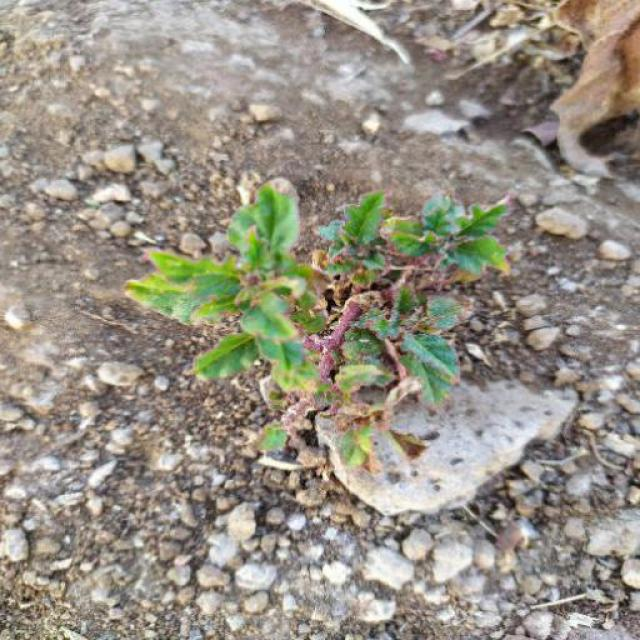weed: (128, 183, 512, 505)
